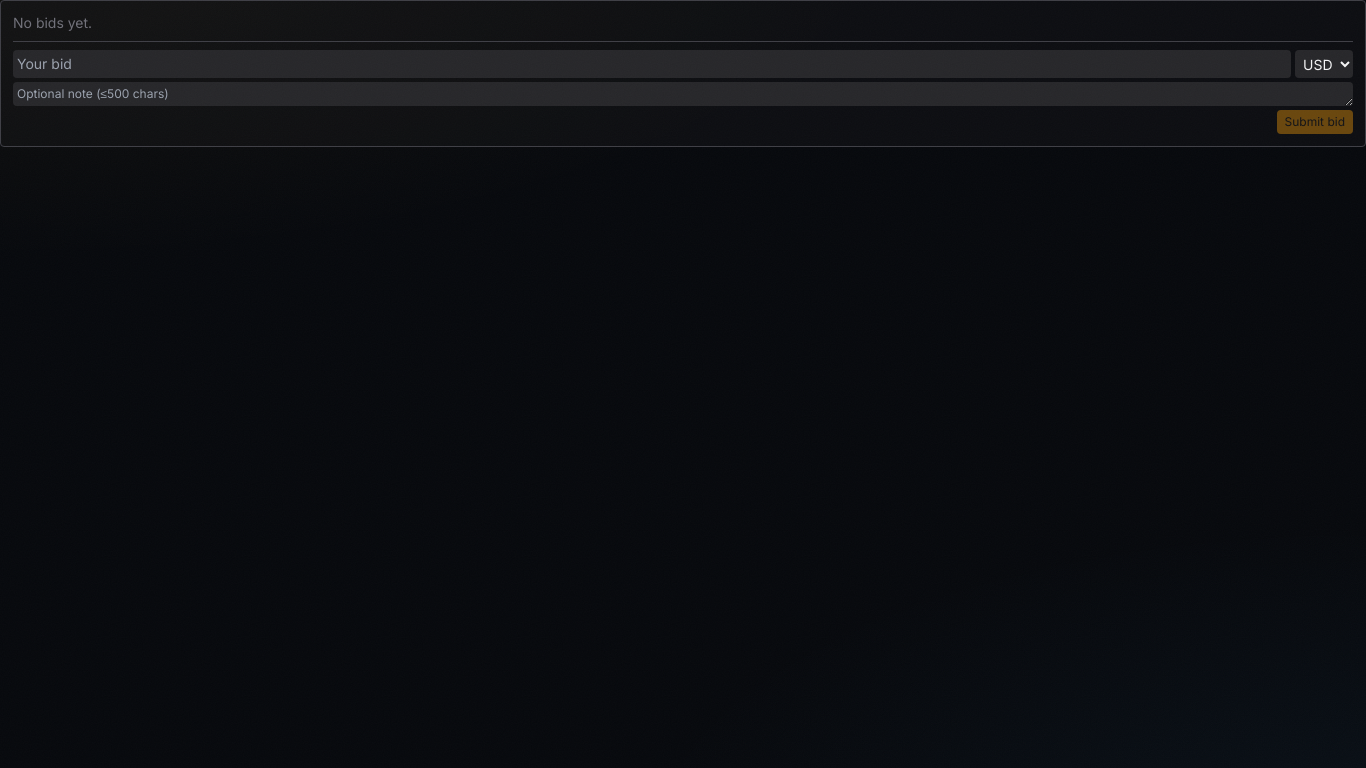
DealBidsTab › renders alert on post failure
The width and height of the screenshot is (1366, 768).
Type "300.00" into the number field named "bid price" at (652, 64), box [13,50,1291,78]
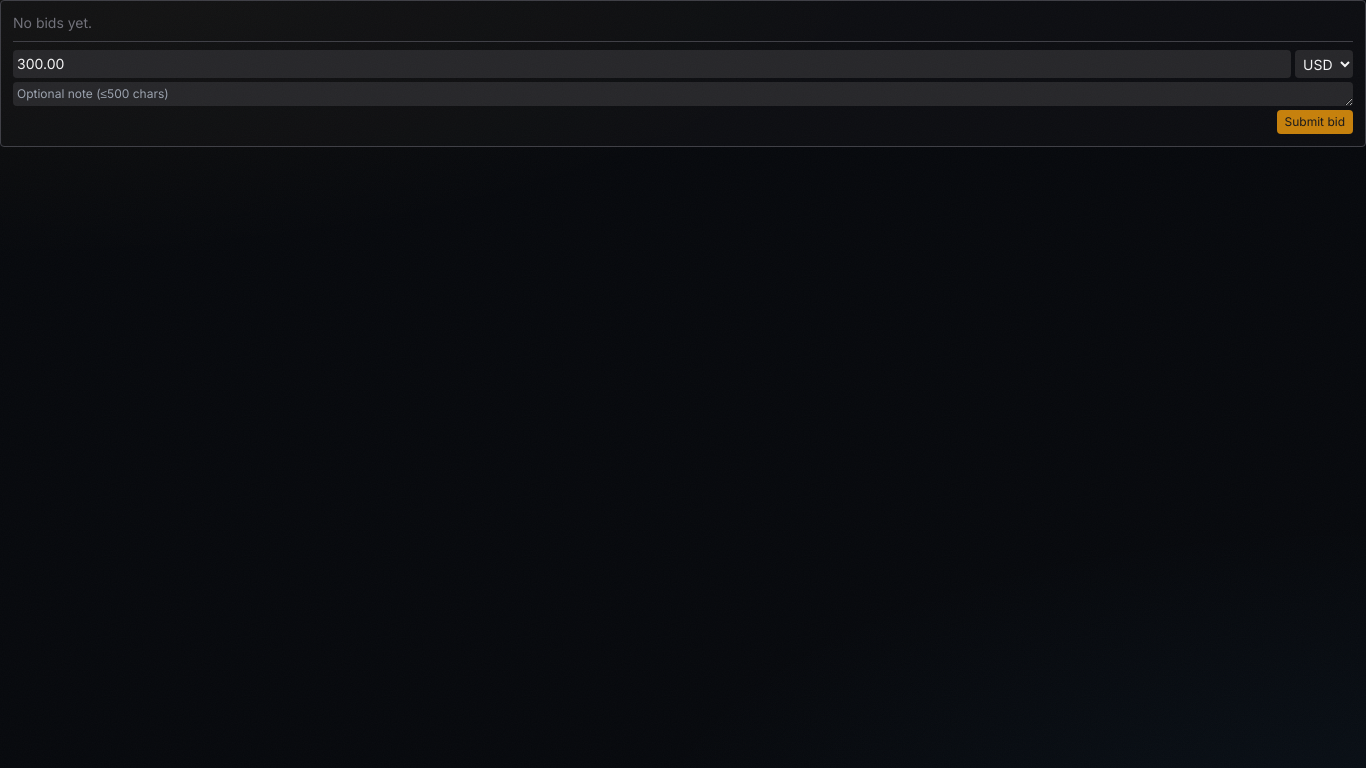
Click the button labelled "Submit bid" at (1315, 122), box [1276,110,1353,134]
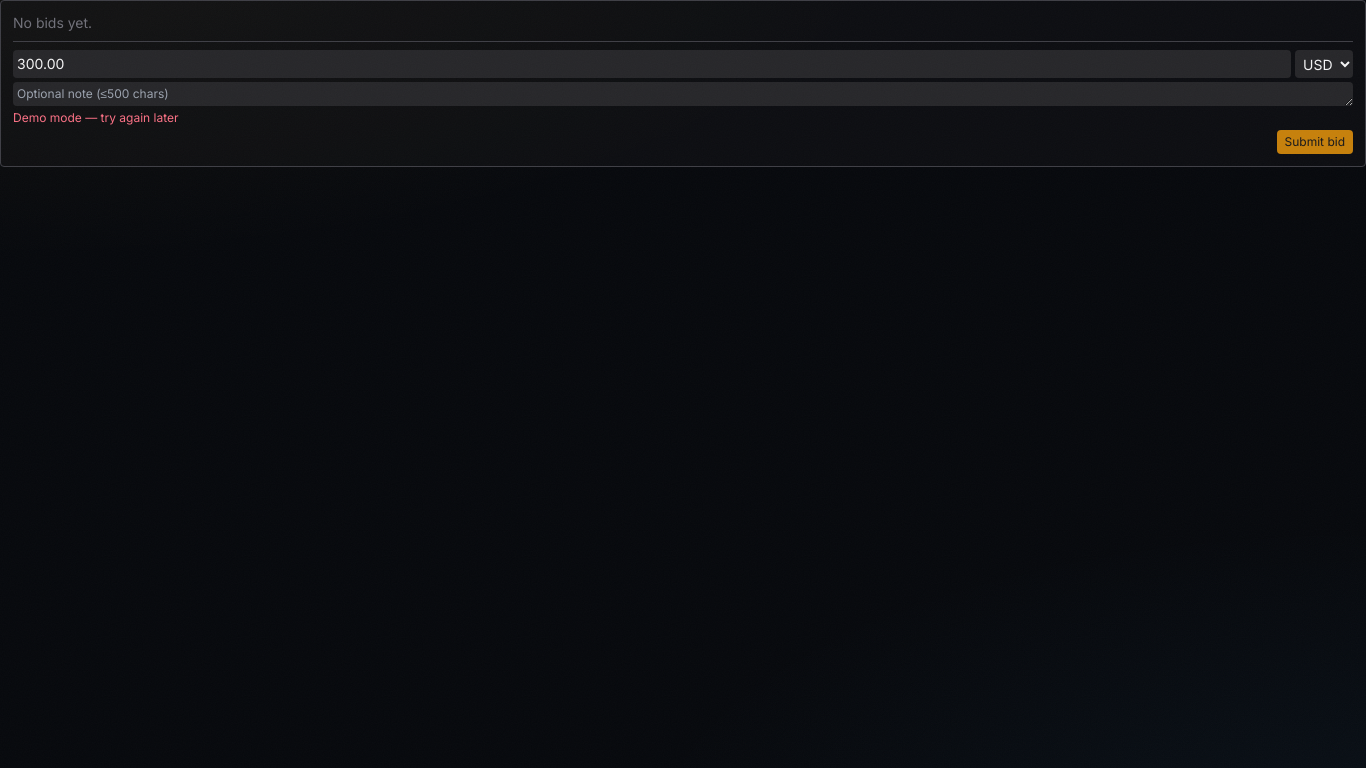
Check: the message shows "Demo", box [13,110,178,125]
